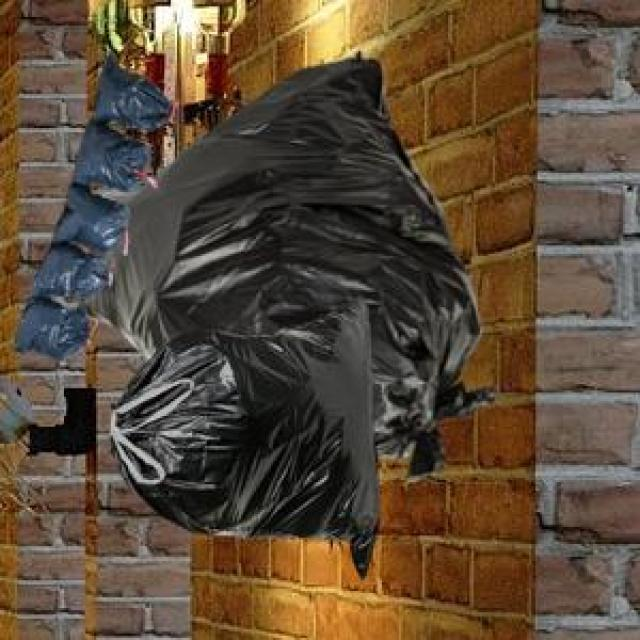garbage_bag: (96, 49, 490, 569)
